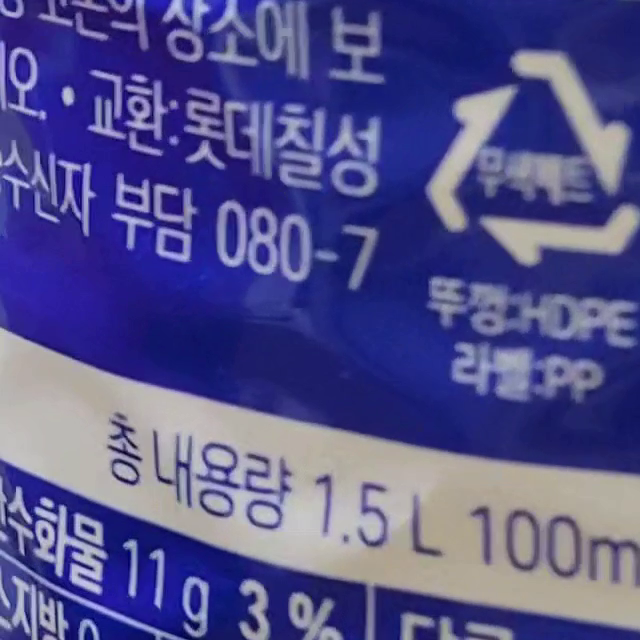ColorlessPet: (426, 51, 639, 266)
